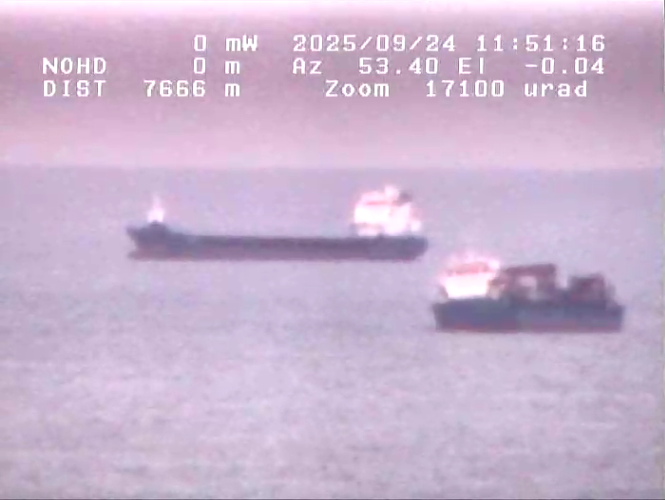TANKER: (117, 165, 438, 268), (427, 226, 647, 345)
